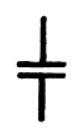Capacitor: (9, 47, 72, 92)
